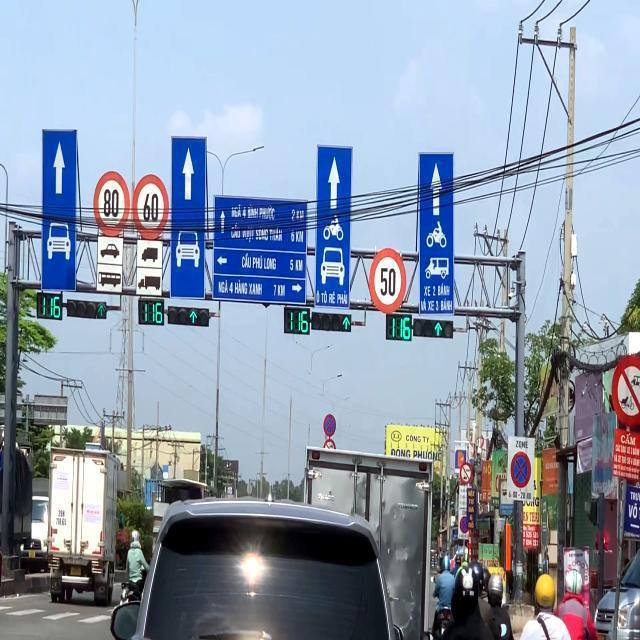127-toc-do-toi-da-50: (370, 248, 408, 312)
127-toc-do-toi-da-80: (129, 175, 171, 238), (91, 172, 129, 232)
130-cam-dung-va-do-xe: (511, 454, 534, 486), (323, 412, 337, 436)
